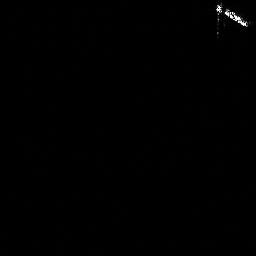ship: (212, 1, 251, 31)
